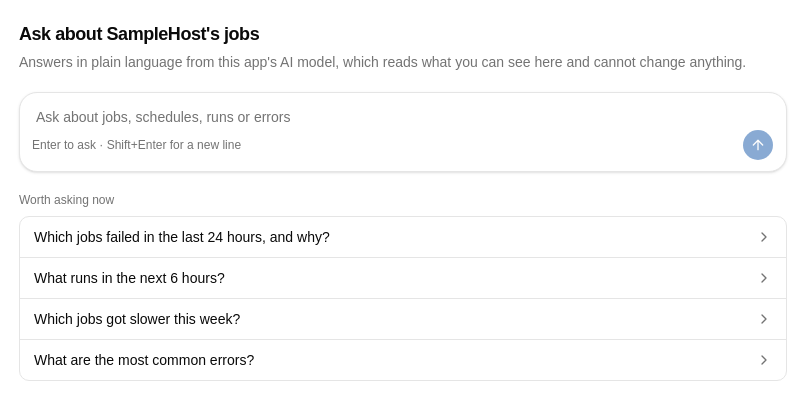
Scenario: Assistant › asks a suggested question, and starts a new conversation
The image size is (807, 398).
Check: the heading "Ask about SampleHost's jobs" is shown, box left=19, top=24, right=259, bottom=44
Click the button "Which jobs failed in the last 24 hours, and why?" at [182, 237], box left=20, top=217, right=786, bottom=257
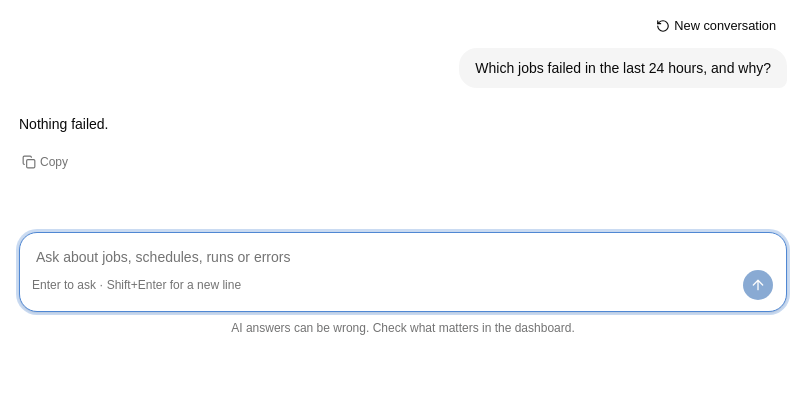
Check: the text "Nothing failed." is shown, box left=19, top=116, right=108, bottom=132
Click the button "New conversation" at [716, 26], box left=645, top=12, right=787, bottom=40
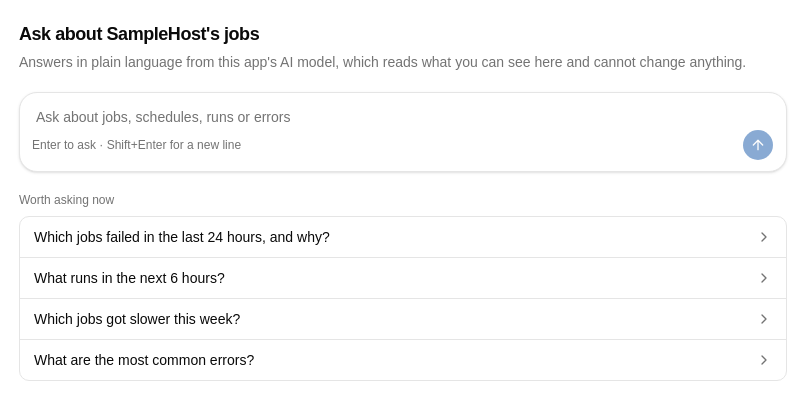
Check: the button "Which jobs failed in the last 24 hours, and why?" is shown, box left=20, top=217, right=786, bottom=257
Check: the text "Nothing failed." is gone
